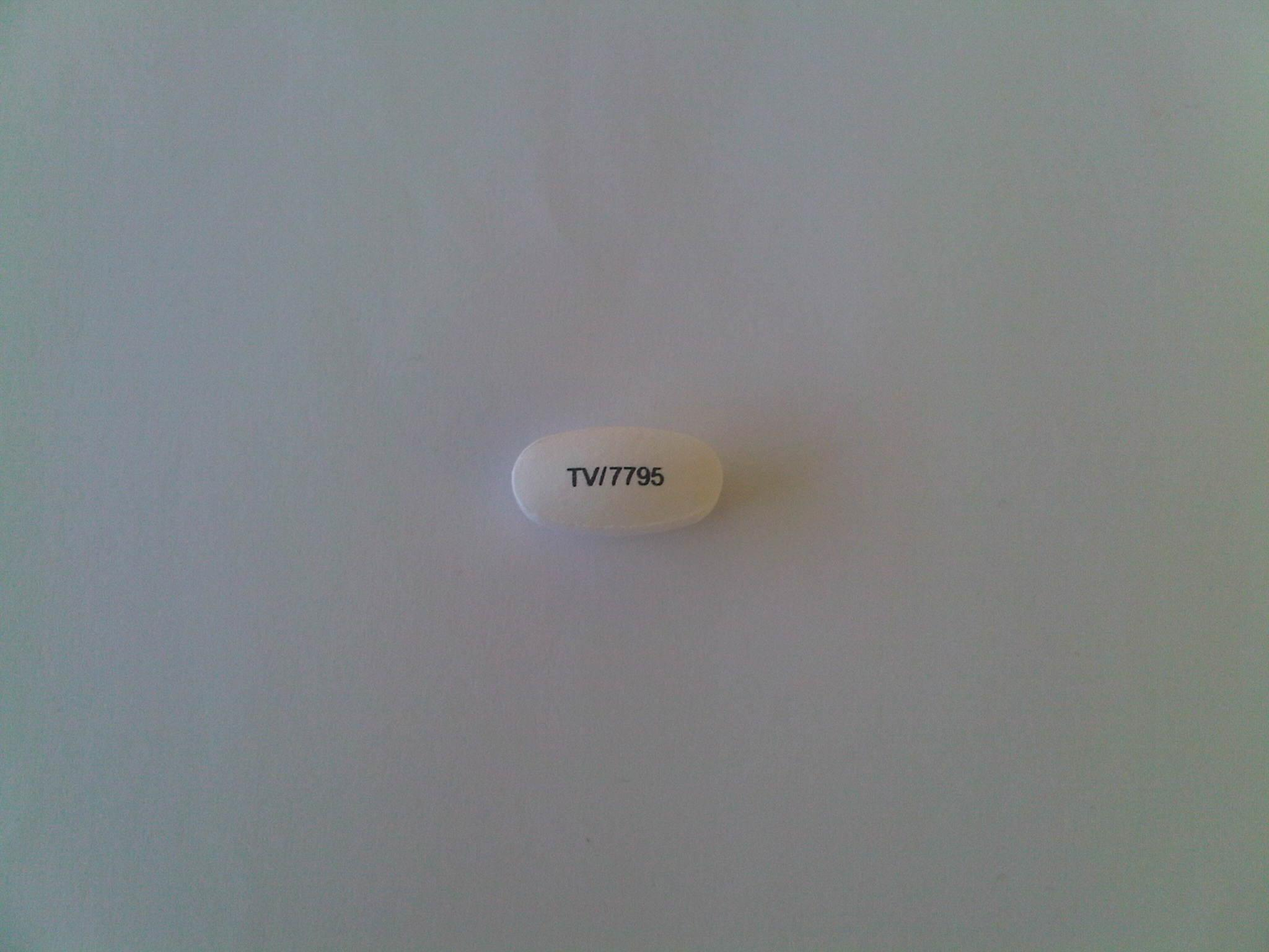Pill: (502, 415, 733, 542)
